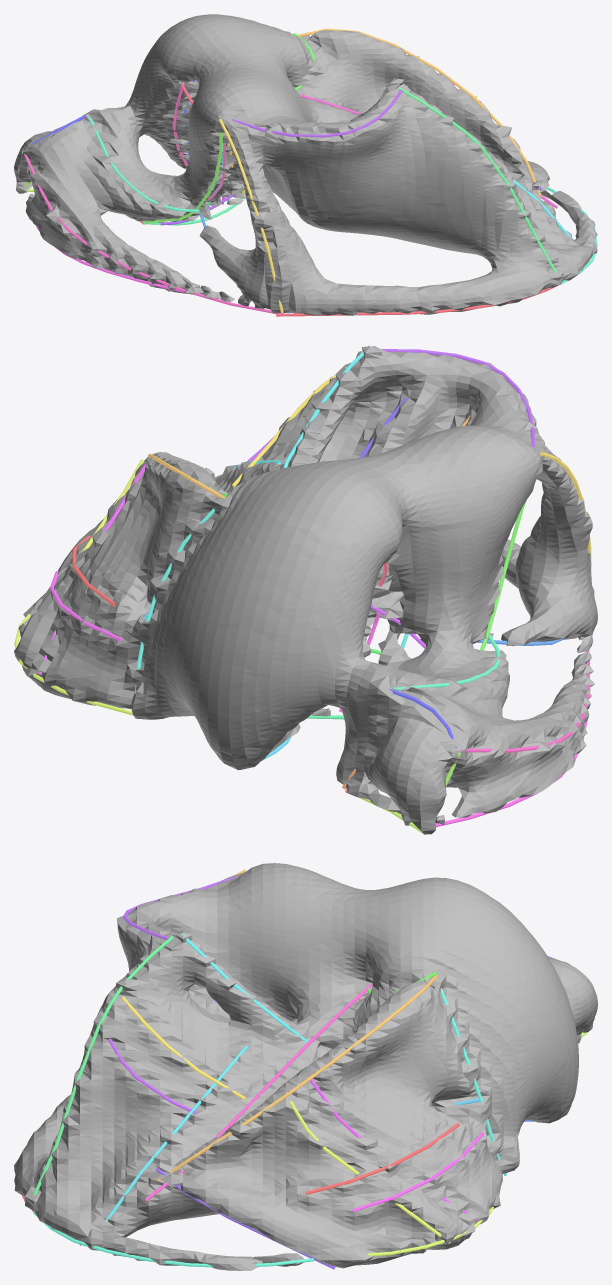
Rendered from author1_building.gltf.
3 renders of one model, top to bottom at view 1: azimuth 30°, elevation 25°; view 2: azimuth 150°, elevation 25°; view 3: azimuth 270°, elevation 25°, orthographic. The views are drawn at different scales.
Bounding box in the file's own units: 0.708 × 0.3172 × 0.6781.
